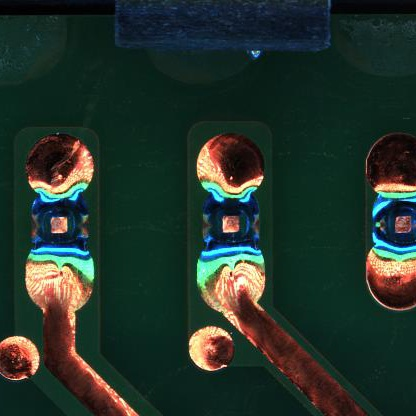spot: (29, 189, 93, 255), (200, 189, 262, 250), (368, 191, 415, 257)
